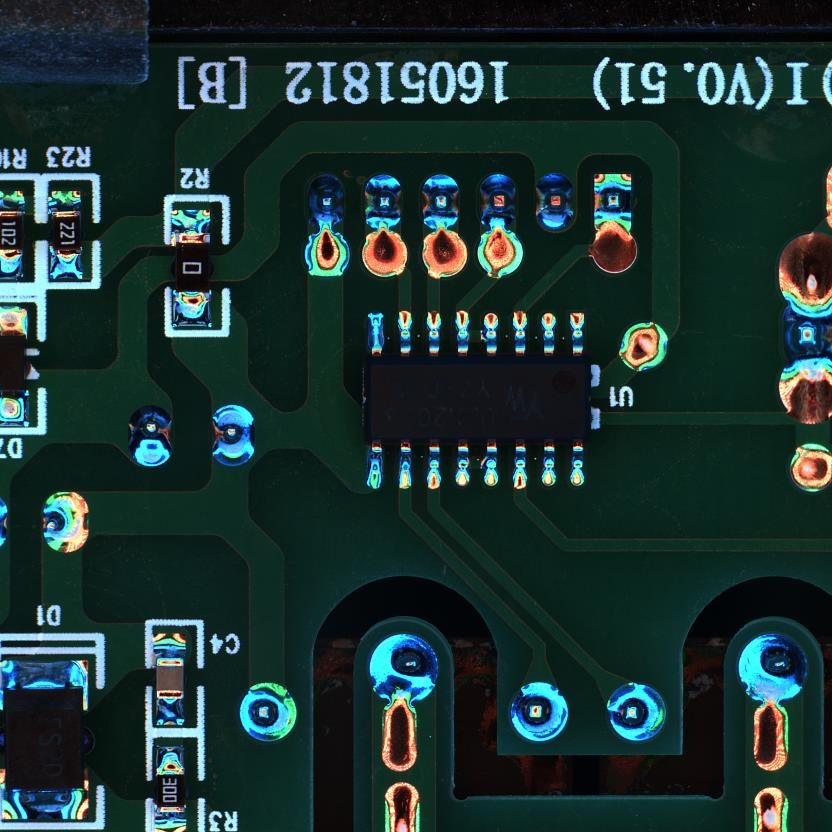spot: (366, 632, 440, 706), (736, 632, 809, 706), (776, 293, 832, 368), (507, 680, 571, 744), (604, 681, 668, 744), (237, 680, 297, 742), (41, 490, 90, 552), (127, 404, 172, 468), (210, 404, 256, 465), (590, 171, 633, 236), (532, 170, 575, 233), (360, 171, 403, 232), (303, 173, 345, 230), (476, 170, 515, 230), (420, 172, 460, 230)
